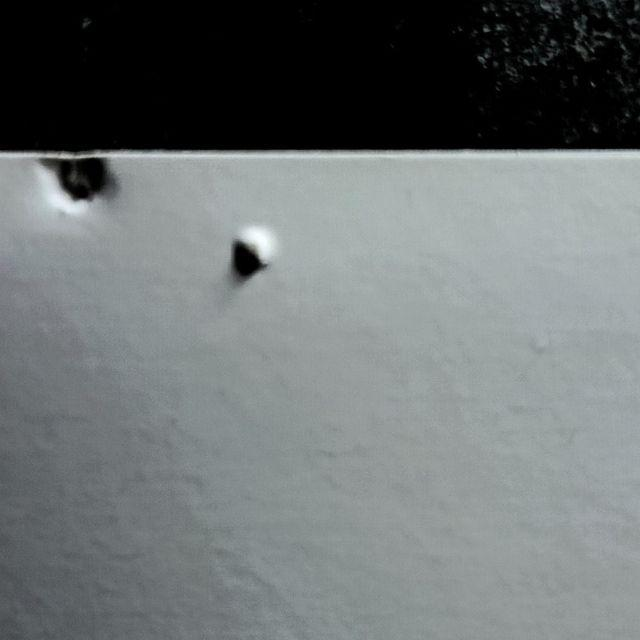a: (232, 223, 326, 370)
